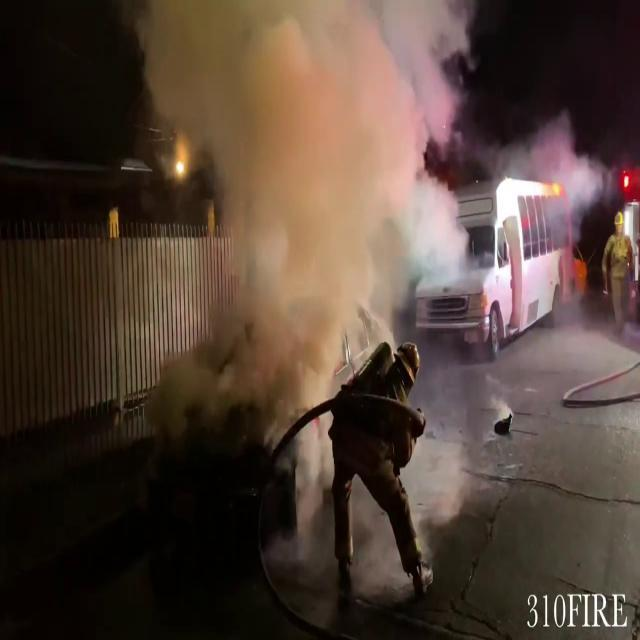Smoke: (128, 0, 477, 393)
